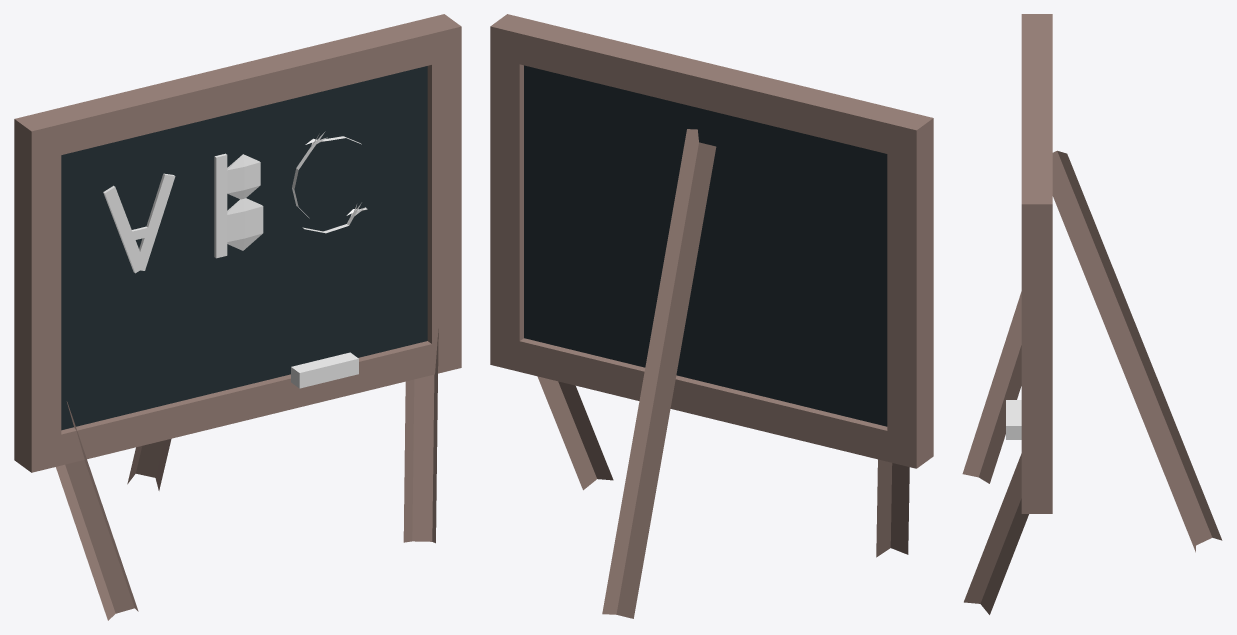
File: griffeltavla.glb
3 views of the same model, side by side, from view 1: azimuth 30°, elevation 25°; view 2: azimuth 150°, elevation 25°; view 3: azimuth 270°, elevation 25° (orthographic). The views are drawn at different scales.
Visible parts, largest first — view 1: griffeltavla; view 2: griffeltavla; view 3: griffeltavla.
Part boxes in pixels (x1,y1,x2,y2): griffeltavla: (14, 14, 461, 620); griffeltavla: (490, 14, 933, 618); griffeltavla: (962, 14, 1222, 614).
Bounding box in the file's own units: 0.58 × 0.6261 × 0.3349.
